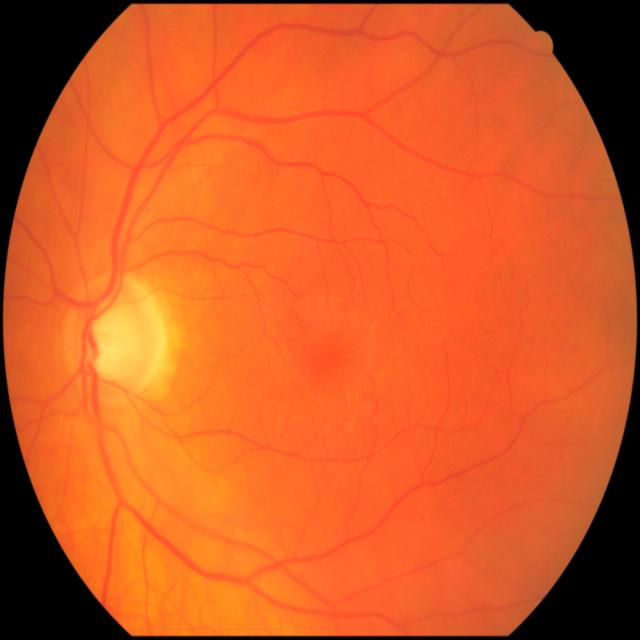OC: (87, 308, 129, 381)
OD: (63, 277, 167, 400)
